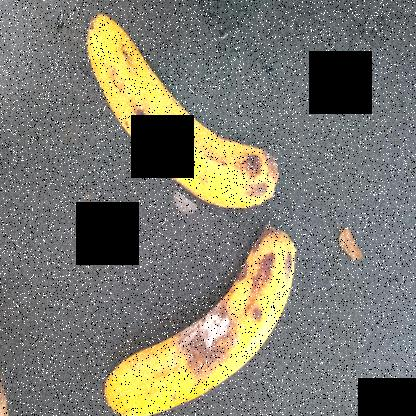ripe: (66, 7, 282, 217)
rotten: (102, 215, 305, 415)
